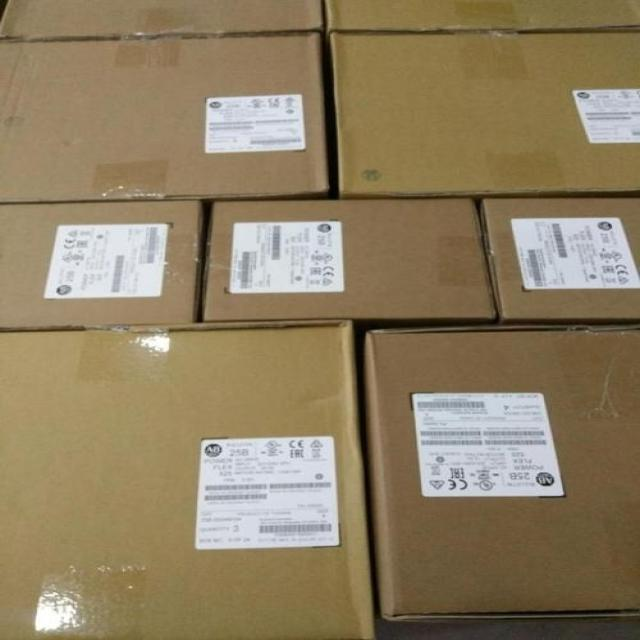box: (2, 320, 377, 638), (357, 324, 639, 621), (0, 30, 330, 201), (329, 32, 639, 195), (202, 194, 499, 325), (1, 198, 204, 329), (484, 197, 639, 321), (3, 3, 323, 37), (324, 2, 639, 28)
